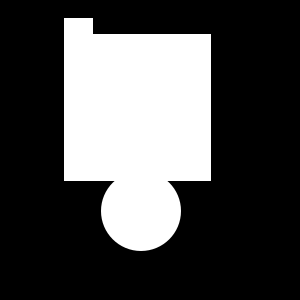circle: (64, 34, 211, 181), (64, 18, 93, 47)
rectangle: (101, 171, 181, 251)
